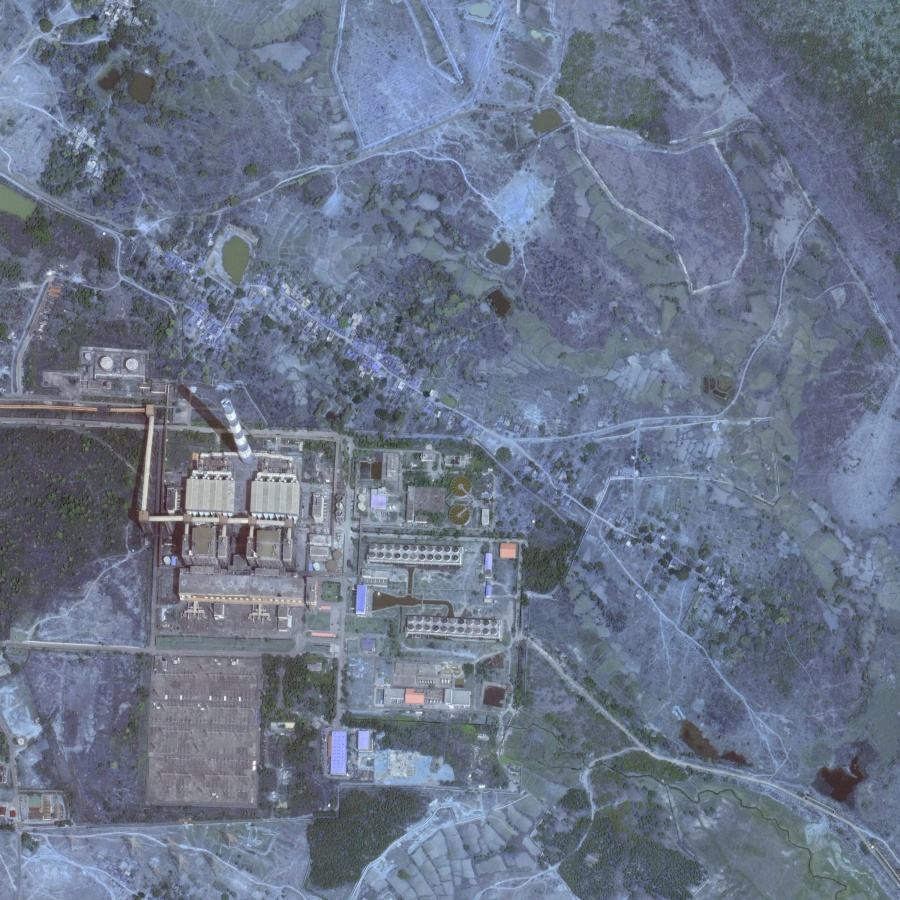PowerPlant: (152, 359, 306, 492)
